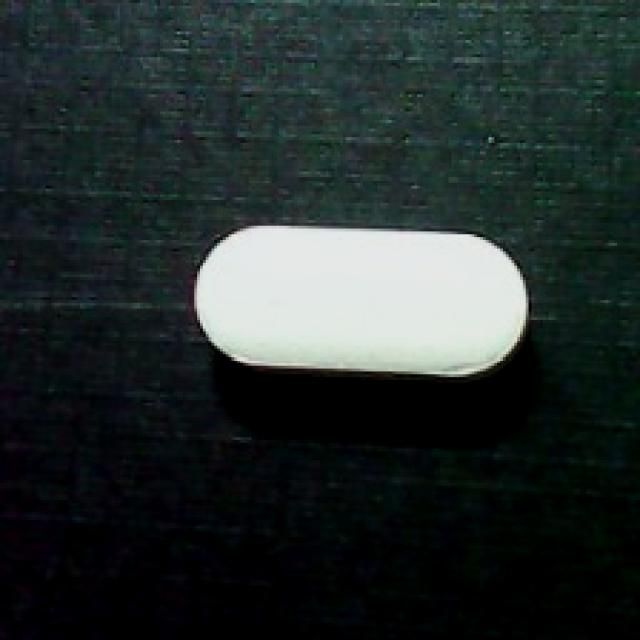no-defect: (186, 220, 534, 394)
